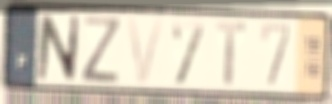7: (170, 17, 207, 88), (258, 21, 292, 90)
N: (34, 12, 82, 85)
T: (214, 21, 249, 88)
V: (124, 14, 168, 87)
Z: (79, 14, 123, 85)
